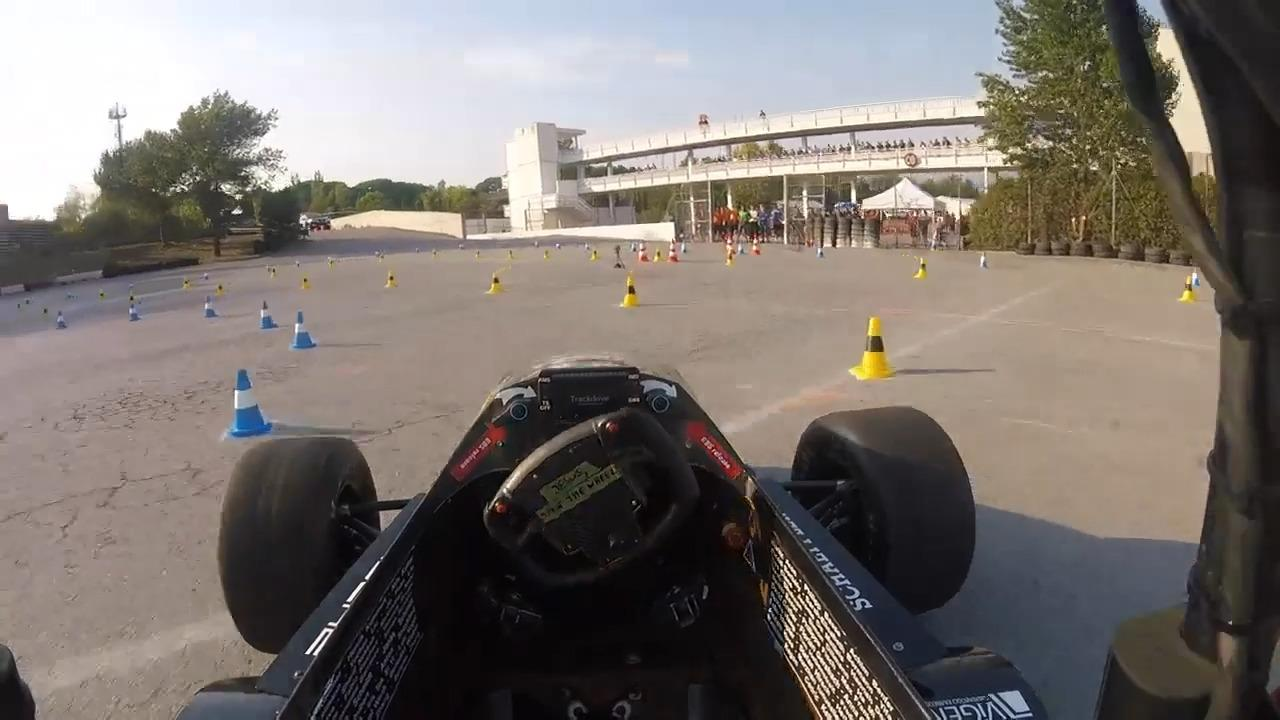blue_cone: (222, 368, 278, 441), (289, 310, 319, 351), (258, 300, 278, 331), (203, 295, 220, 319), (55, 309, 69, 331), (128, 303, 142, 323)
large_orange_cone: (665, 239, 680, 263), (636, 242, 652, 263)
yellow_cone: (848, 314, 900, 382), (619, 274, 642, 308), (1176, 275, 1201, 304), (486, 271, 506, 294), (913, 257, 932, 280), (384, 268, 398, 288)
